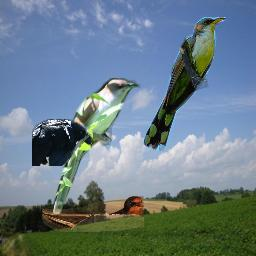Crow: (32, 119, 93, 166)
Cuckoo: (52, 78, 141, 214), (144, 17, 226, 151)
Swallow: (42, 195, 144, 232)
